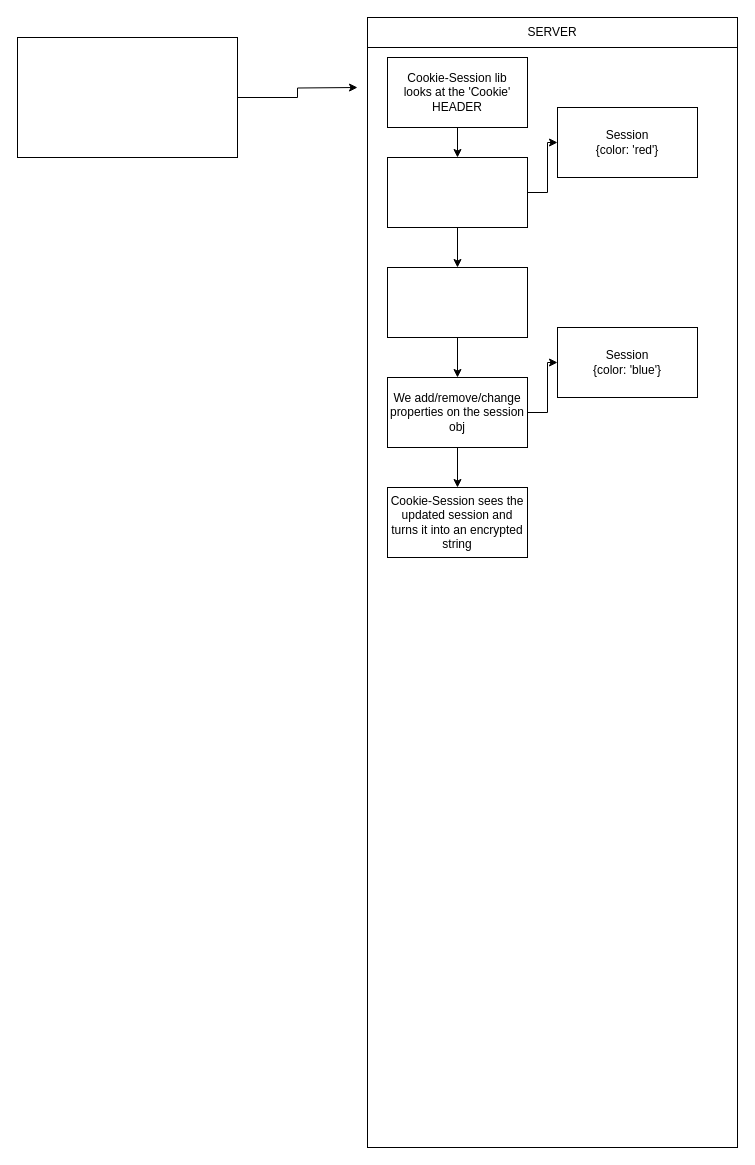
Image size: 755x1165. Some labels were removed from this diagram. The shapes that lost their labels are listed below. From the top down, each one's centre as x and y in pixels, then its label:
At point 127,97: "GET /asdf Cookie : 34j1klfdsf".
At point 457,192: "Cookie-Session decodes the string, resulting in an obj".
At point 457,302: "We get access to session obj in a req handler using a decorator".
